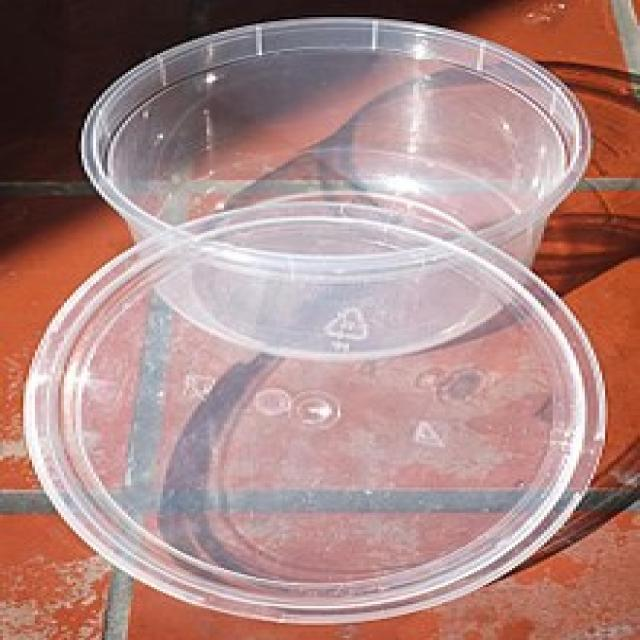plastic: (23, 26, 610, 623)
